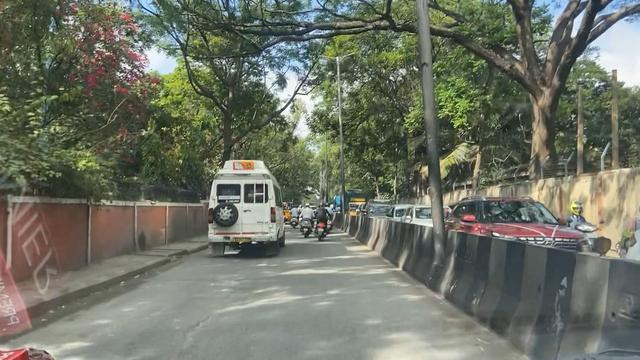HMV: (208, 160, 281, 257)
LMV: (309, 197, 335, 240)
